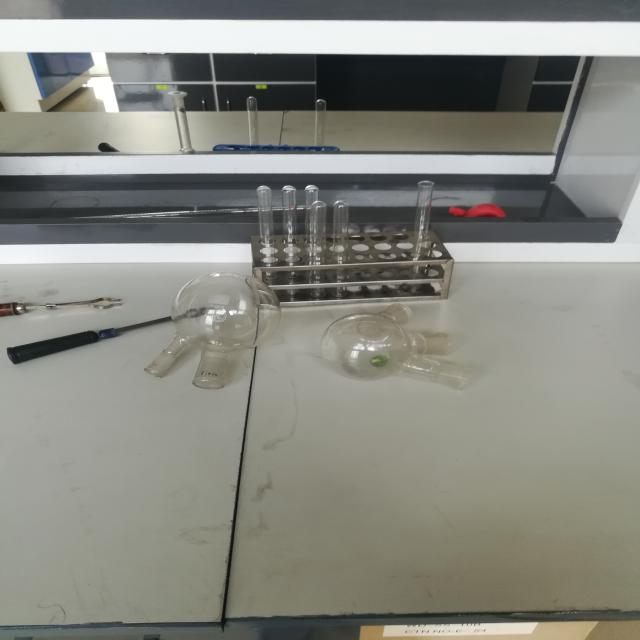Round_Bottom_Flask_Borosilicate_Glass_2_Neck: (127, 258, 284, 412)
Round_Bottom_Flask_Borosilicate_Glass_3_Neck: (316, 276, 486, 409)
